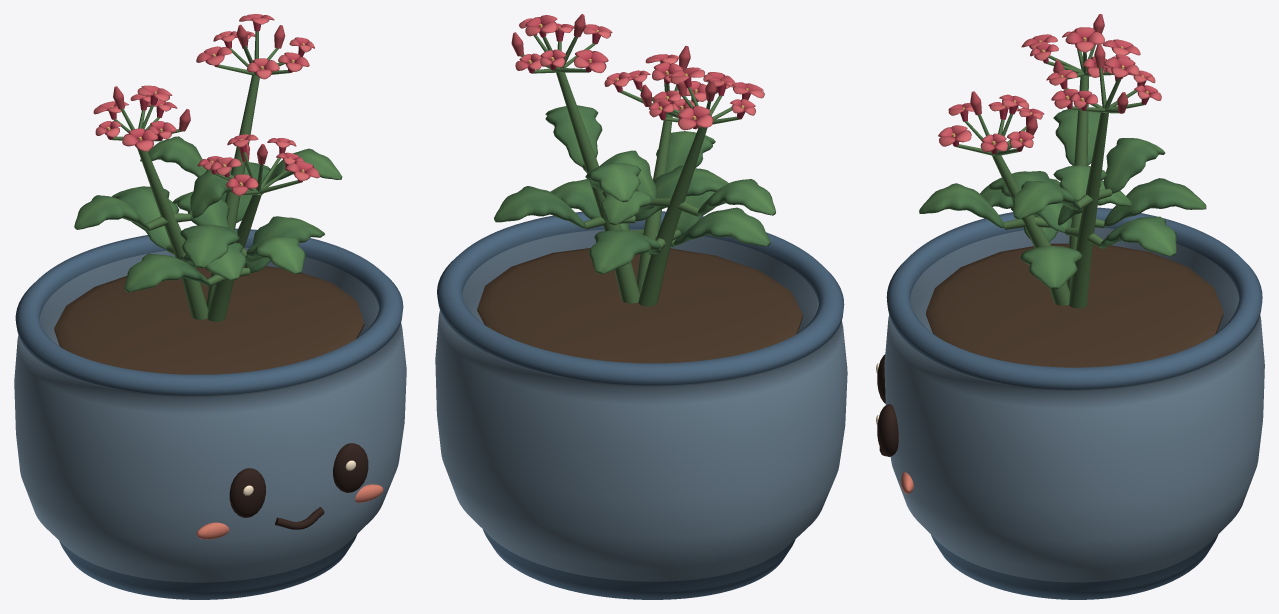
The model's file is flaming-katy-v1.glb.
3 views of the same model, side by side, from view 1: azimuth 30°, elevation 25°; view 2: azimuth 150°, elevation 25°; view 3: azimuth 270°, elevation 25° (orthographic). The views are drawn at different scales.
Parts seen in each view (by area): view 1: Wheel-thrown ceramic, Foliage draw mesh, Soil, Eye, Eye.001; view 2: Wheel-thrown ceramic, Foliage draw mesh, Soil; view 3: Wheel-thrown ceramic, Foliage draw mesh, Soil, Eye.001.
Boxes of the visible parts, bbox=[...] form: Wheel-thrown ceramic: bbox=[14, 228, 406, 599]; Foliage draw mesh: bbox=[74, 14, 342, 321]; Soil: bbox=[54, 265, 364, 374]; Eye: bbox=[229, 468, 265, 517]; Eye.001: bbox=[333, 443, 368, 492]; Wheel-thrown ceramic: bbox=[435, 211, 847, 599]; Foliage draw mesh: bbox=[494, 14, 775, 306]; Soil: bbox=[477, 248, 802, 363]; Wheel-thrown ceramic: bbox=[884, 207, 1264, 599]; Foliage draw mesh: bbox=[919, 14, 1206, 308]; Soil: bbox=[926, 243, 1223, 367]; Eye.001: bbox=[877, 404, 898, 456].
Size of the model in its own units: 1.62 by 2.25 by 1.53.
